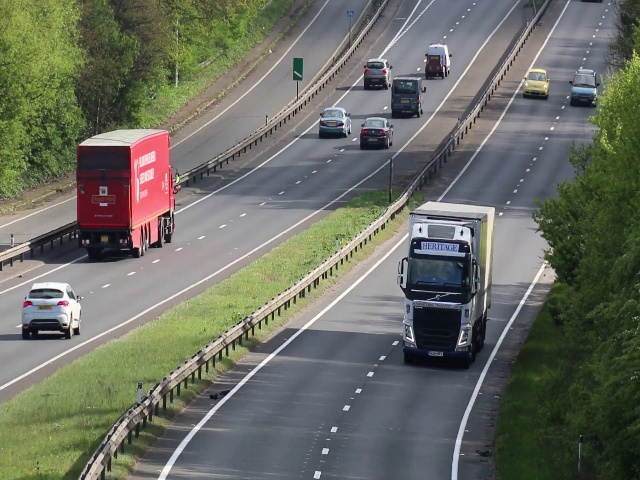car: (396, 228, 484, 365), (82, 137, 172, 255), (23, 287, 83, 337), (388, 78, 426, 117), (359, 114, 394, 150), (569, 65, 598, 106), (319, 107, 352, 139), (423, 42, 452, 76), (364, 59, 390, 89), (524, 67, 549, 97)
